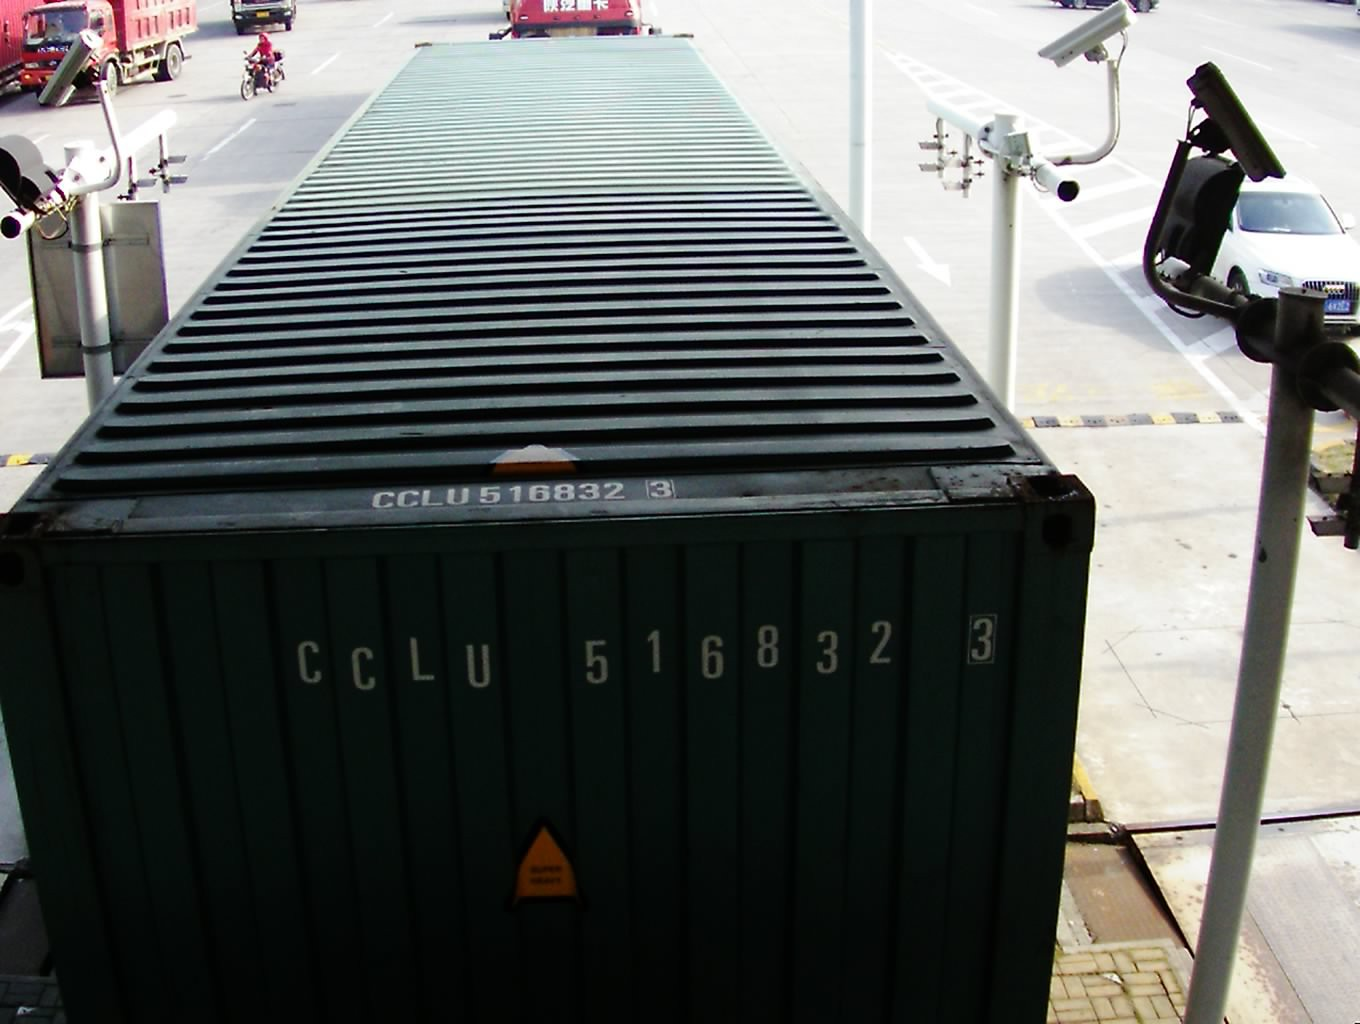words: (280, 599, 1007, 692)
